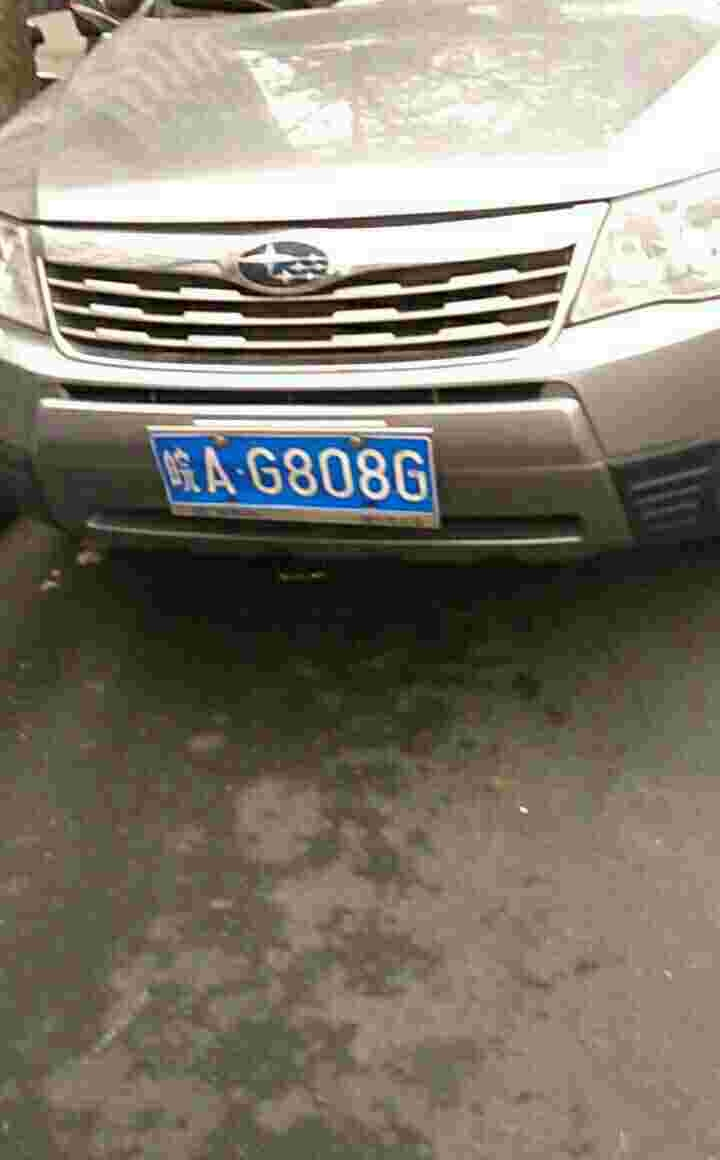license_plate: (141, 423, 435, 513)
